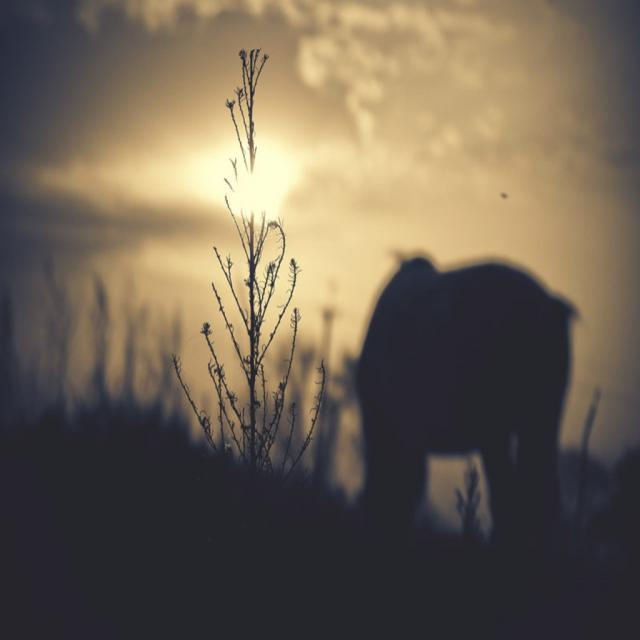Elephant: (355, 254, 583, 544)
